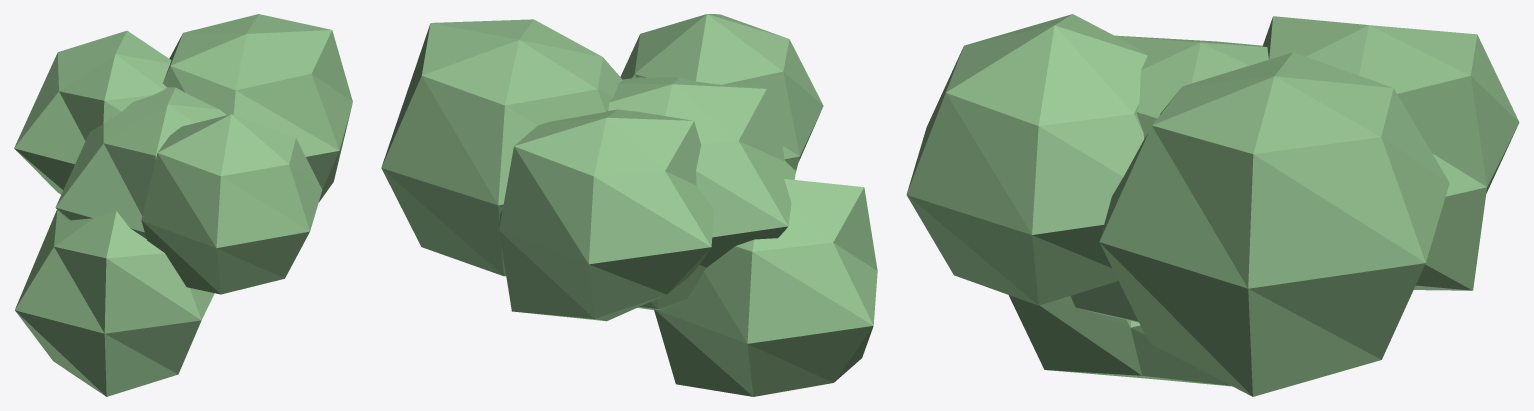
File: nature_bush_round.glb
The picture shows the model from 3 angles, left to right: view 1: azimuth 30°, elevation 25°; view 2: azimuth 150°, elevation 25°; view 3: azimuth 270°, elevation 25°; orthographic projection. The views are drawn at different scales.
Visible parts, largest first — view 1: world; view 2: world; view 3: world.
Boxes of the visible parts, x1,y1,x2,y2 form: world: (14,14,352,396); world: (381,14,877,396); world: (906,14,1519,396).
Size of the model in its own units: 2 by 1.44 by 1.86.
